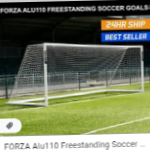goals: (7, 43, 148, 106)
